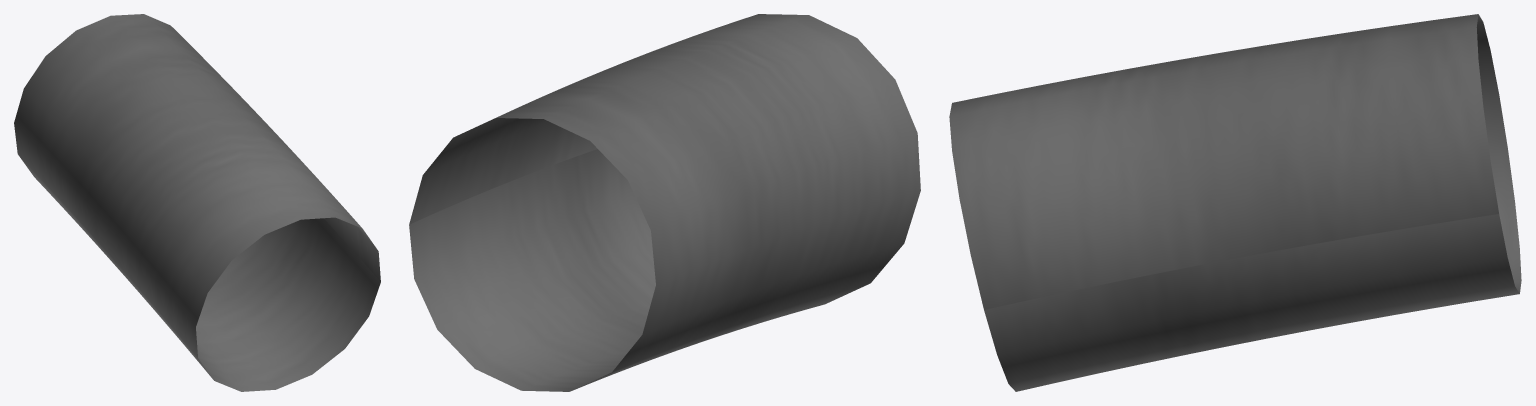
File: mastarmcurve_5x1_c3.obj
3 renders of one model, left to right at view 1: azimuth 30°, elevation 25°; view 2: azimuth 150°, elevation 25°; view 3: azimuth 270°, elevation 25°, orthographic. The views are drawn at different scales.
Parts seen in each view (by area): view 1: mastarm_5x1_c3; view 2: mastarm_5x1_c3; view 3: mastarm_5x1_c3.
Part boxes in pixels (x1,y1,x2,y2): mastarm_5x1_c3: [14, 14, 380, 391]; mastarm_5x1_c3: [409, 14, 920, 391]; mastarm_5x1_c3: [949, 14, 1521, 391].
Size of the model in its own units: 0.575 by 0.7511 by 1.11.
